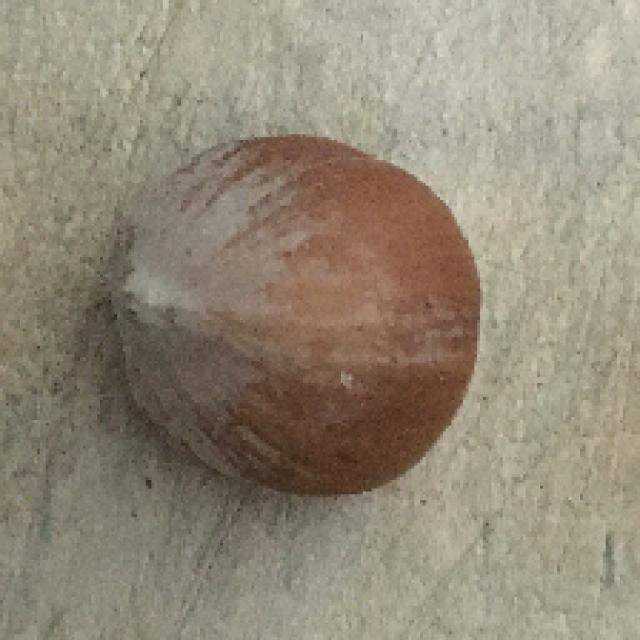qualityHazelnut: (112, 127, 488, 514)
